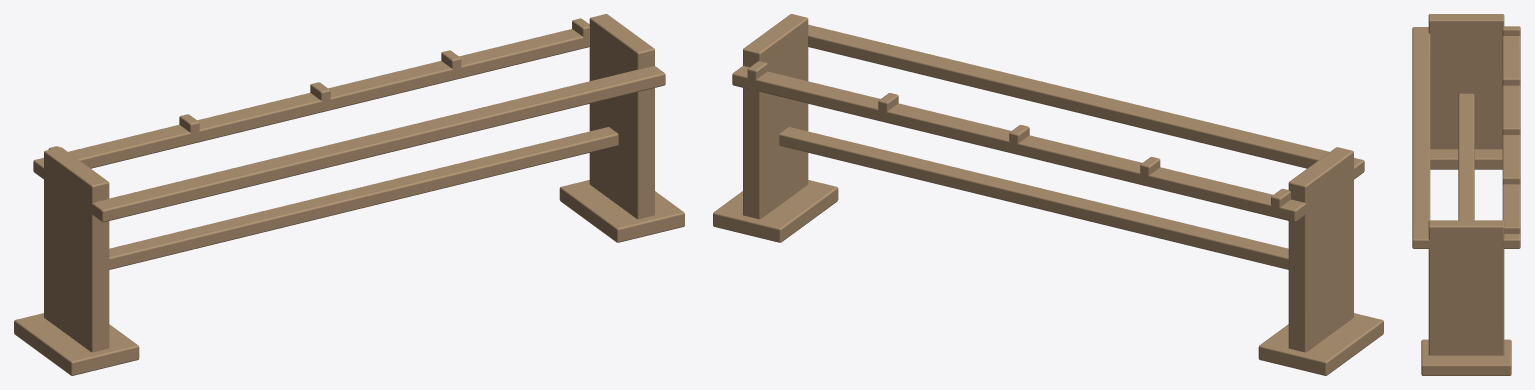
File: spear-rack.glb
3 renders of one model, left to right at view 1: azimuth 30°, elevation 25°; view 2: azimuth 150°, elevation 25°; view 3: azimuth 270°, elevation 25°, orthographic. The views are drawn at different scales.
Visible parts, largest first — view 1: spear-rack; view 2: spear-rack; view 3: spear-rack.
Boxes of the visible parts, <box> form: spear-rack: <box>14,14,684,375</box>; spear-rack: <box>713,14,1383,375</box>; spear-rack: <box>1412,14,1520,375</box>.
Size of the model in its own units: 3.05 by 0.8602 by 0.5998.
